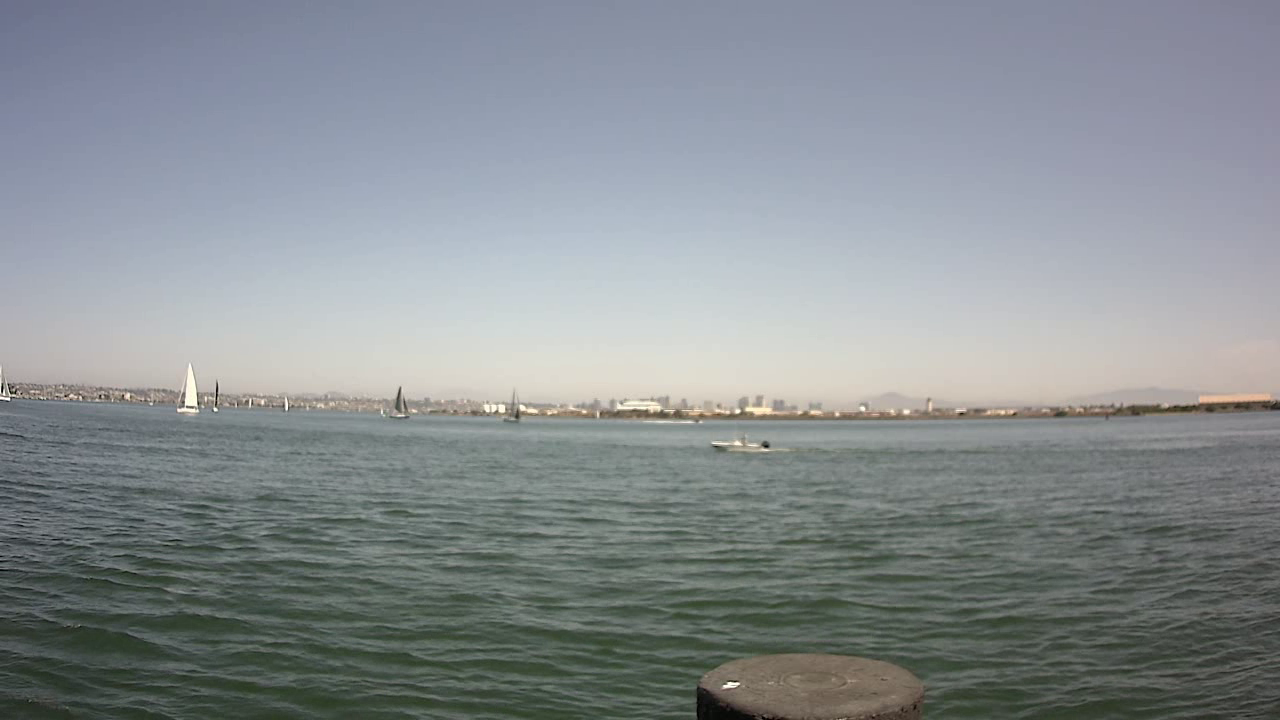target: (706, 419, 785, 453)
